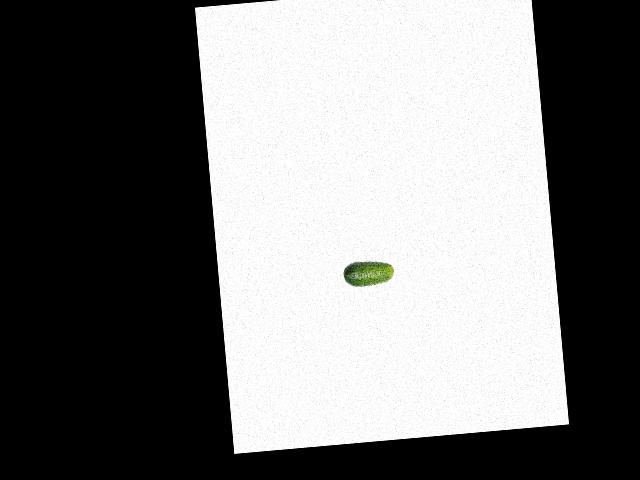cucumber: (342, 258, 395, 289)
